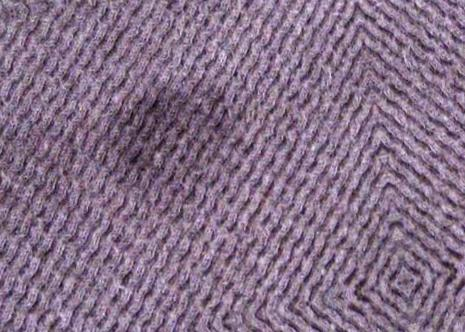stain: (103, 83, 238, 204)
